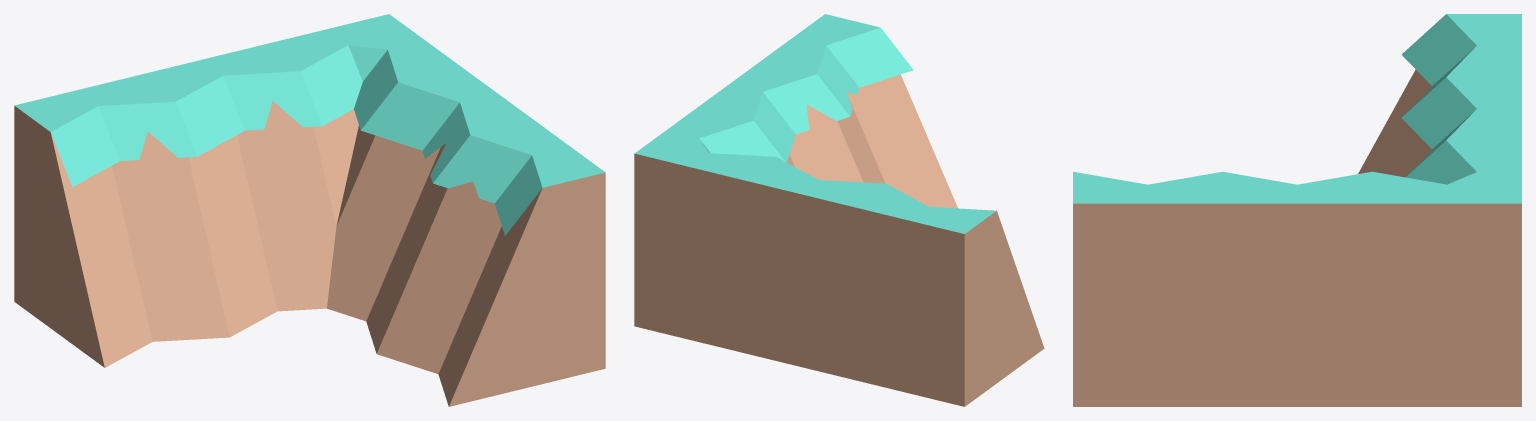
3 views of the same model, side by side, from view 1: azimuth 30°, elevation 25°; view 2: azimuth 150°, elevation 25°; view 3: azimuth 270°, elevation 25° (orthographic). The views are drawn at different scales.
Visible parts, largest first — view 1: cliff_halfCornerInner_rock; view 2: cliff_halfCornerInner_rock; view 3: cliff_halfCornerInner_rock.
Boxes of the visible parts, x1=… form: cliff_halfCornerInner_rock: x1=14, y1=14, x2=605, y2=406; cliff_halfCornerInner_rock: x1=634, y1=14, x2=1044, y2=406; cliff_halfCornerInner_rock: x1=1073, y1=14, x2=1521, y2=406.
Bounding box in the file's own units: 1 × 0.5 × 1.
